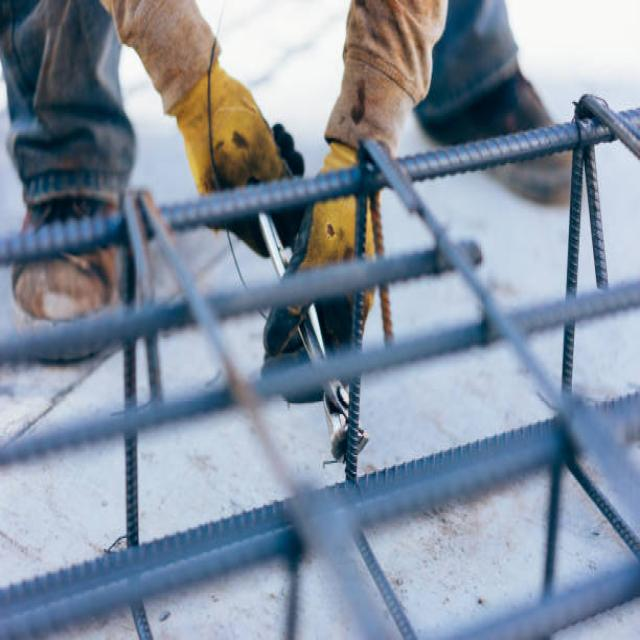gloves: (163, 46, 304, 258), (266, 146, 376, 356)
